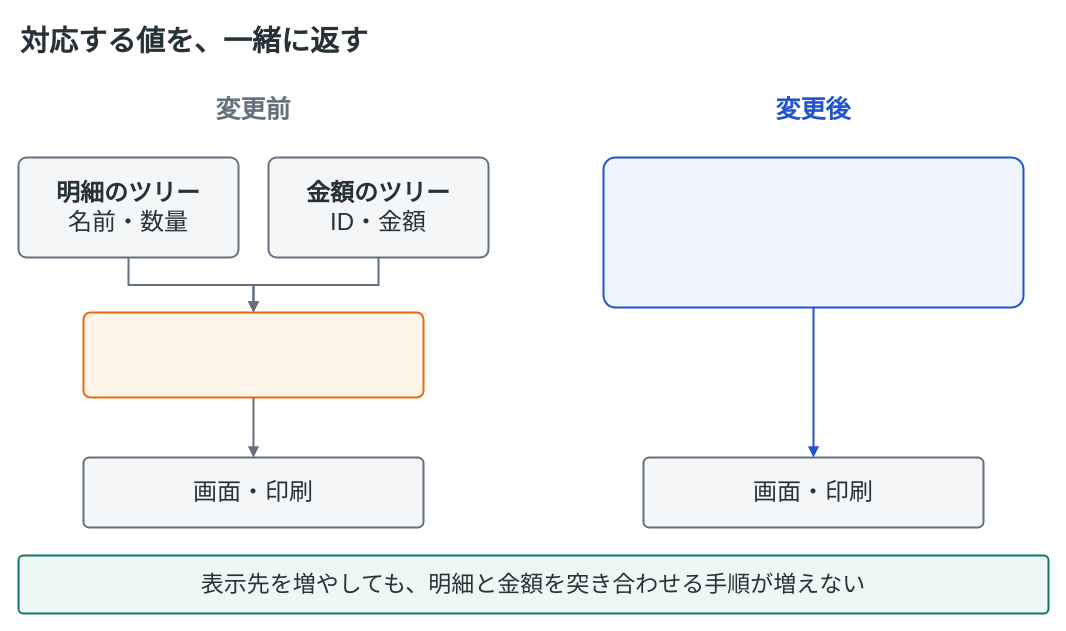
Some shapes in this 1066 by 631 pixel diagram are drawn without their labels. Here are the shapes that lost their labels. From the top down, the centre of each, then its label:
At point 813,232: "計算結果のツリー 各要素が、明細と金額を持つ".
At point 253,354: "ID で照合 見つからなければエラー".
